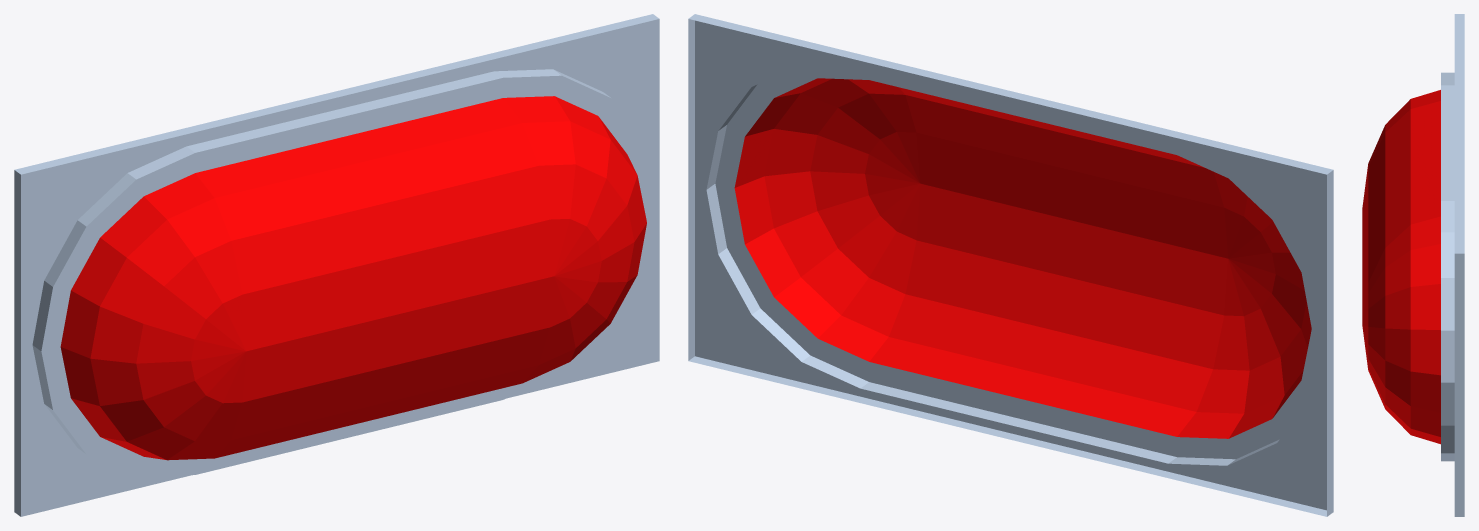
File: anzeigerlicht.obj
The picture shows the model from 3 angles, left to right: view 1: azimuth 30°, elevation 25°; view 2: azimuth 150°, elevation 25°; view 3: azimuth 270°, elevation 25°; orthographic projection. The views are drawn at different scales.
Parts seen in each view (by area): view 1: anzeigerlicht; view 2: anzeigerlicht; view 3: anzeigerlicht.
Boxes of the visible parts, box(x1,y1,x2,y2) form: anzeigerlicht: box(14, 14, 659, 516); anzeigerlicht: box(688, 14, 1333, 516); anzeigerlicht: box(1362, 14, 1464, 516).
Size of the model in its own units: 0.2158 by 0.1105 by 0.039.
